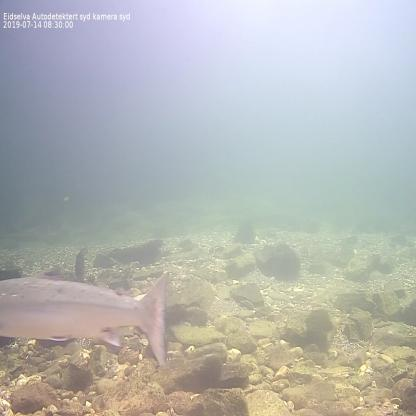salmon: (0, 262, 173, 371)
